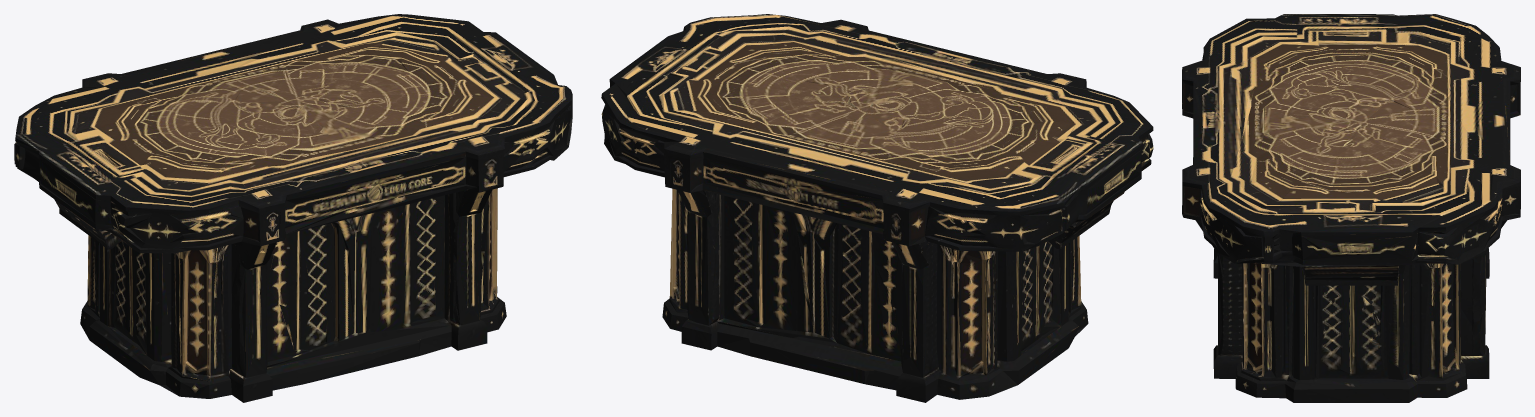
File: war_table.glb
3 views of the same model, side by side, from view 1: azimuth 30°, elevation 25°; view 2: azimuth 150°, elevation 25°; view 3: azimuth 270°, elevation 25° (orthographic). The views are drawn at different scales.
Parts seen in each view (by area): view 1: output_unwrapped; view 2: output_unwrapped; view 3: output_unwrapped.
Boxes of the visible parts, x1,y1,x2,y2 form: output_unwrapped: (14,14,572,402); output_unwrapped: (601,14,1153,402); output_unwrapped: (1182,14,1520,402).
Size of the model in its own units: 1.9 by 0.8291 by 1.24.
1 material, 1 textured.
